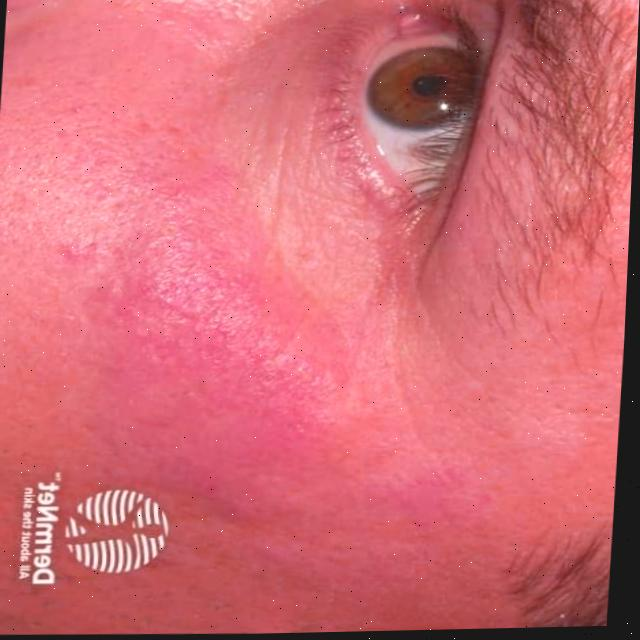lupus-detected: (42, 109, 530, 590)
